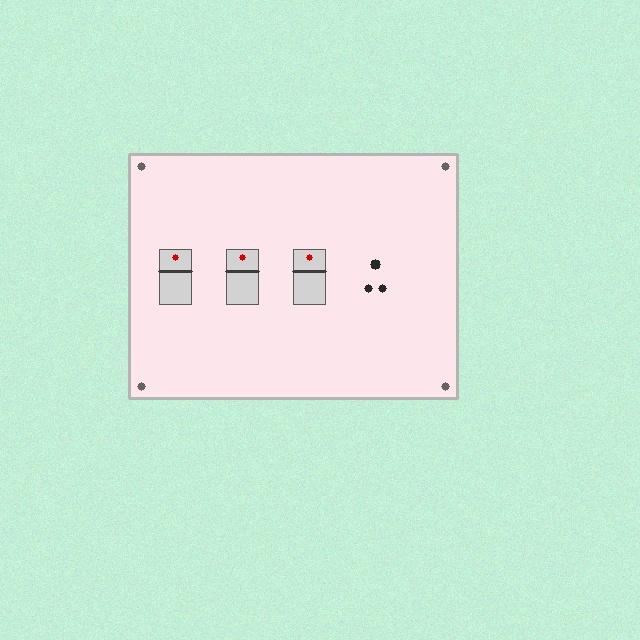switchboard: (129, 154, 457, 398)
